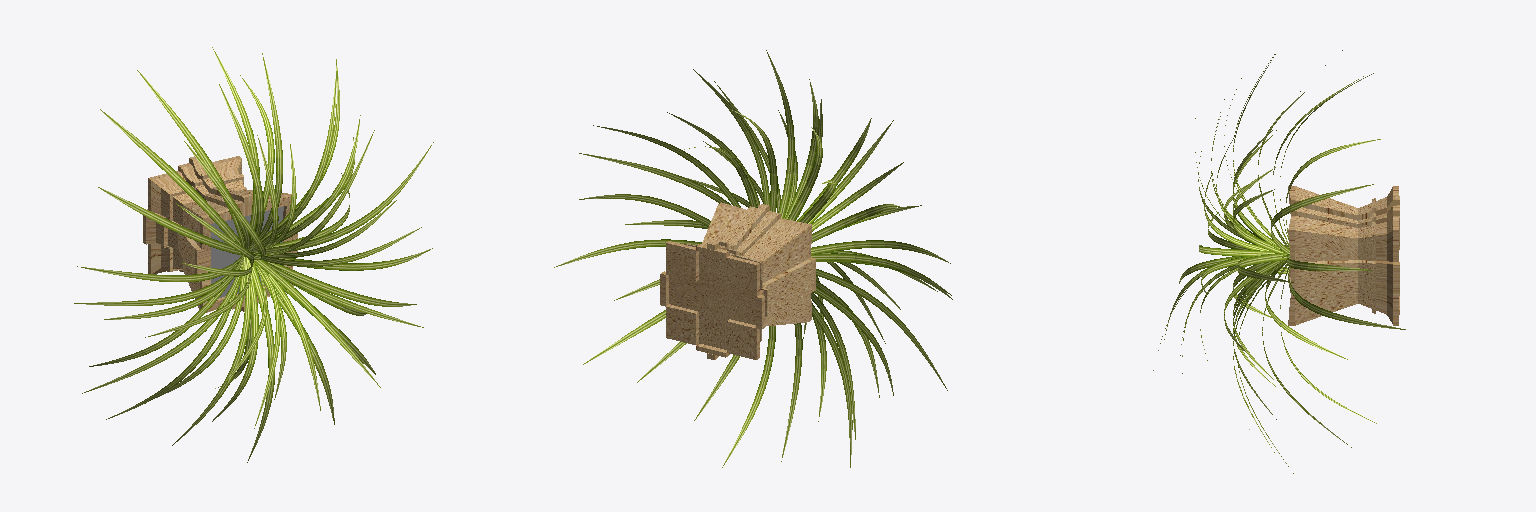
3 renders of one model, left to right at view 1: azimuth 30°, elevation 25°; view 2: azimuth 150°, elevation 25°; view 3: azimuth 270°, elevation 25°, orthographic.
Visible parts, largest first — view 1: LEAVES, POT, SOIL; view 2: LEAVES, POT; view 3: POT, LEAVES.
Boxes of the visible parts, x1=… form: LEAVES: x1=74, y1=47, x2=433, y2=462; POT: x1=143, y1=156, x2=297, y2=312; SOIL: x1=210, y1=206, x2=283, y2=298; LEAVES: x1=554, y1=50, x2=952, y2=467; POT: x1=660, y1=202, x2=815, y2=359; POT: x1=1288, y1=186, x2=1399, y2=325; LEAVES: x1=1153, y1=50, x2=1405, y2=473.
Bounding box in the file's own units: 191 × 203 × 116.
Materials: 3 (2 with a texture image).